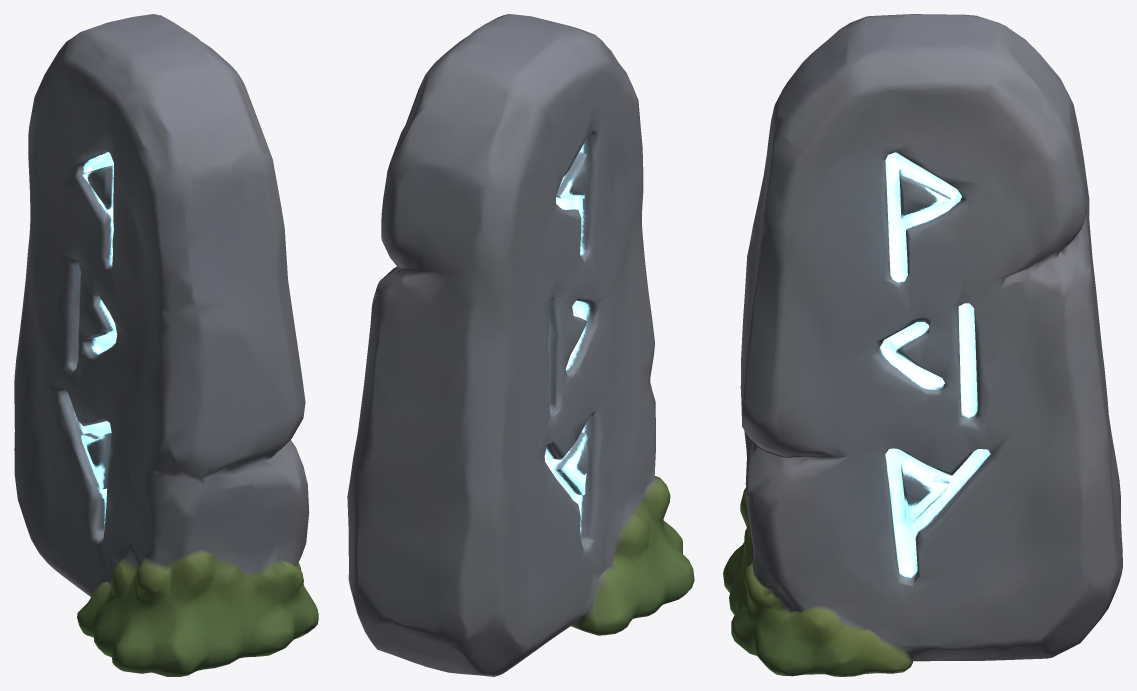
Rendered from pro_runestone-BlOlHcP1.glb.
3 renders of one model, left to right at view 1: azimuth 30°, elevation 25°; view 2: azimuth 150°, elevation 25°; view 3: azimuth 270°, elevation 25°, orthographic. The views are drawn at different scales.
Parts seen in each view (by area): view 1: tripo_node_ddb7b24c-7769-4b02-b834-f17a9ee2905c; view 2: tripo_node_ddb7b24c-7769-4b02-b834-f17a9ee2905c; view 3: tripo_node_ddb7b24c-7769-4b02-b834-f17a9ee2905c.
Part boxes in pixels (box(x1,y1,x2,y2)): tripo_node_ddb7b24c-7769-4b02-b834-f17a9ee2905c: box(14, 14, 318, 676); tripo_node_ddb7b24c-7769-4b02-b834-f17a9ee2905c: box(347, 14, 694, 676); tripo_node_ddb7b24c-7769-4b02-b834-f17a9ee2905c: box(723, 14, 1122, 676).
Size of the model in its own units: 0.3802 by 1 by 0.6067.
1 material, 1 textured.
